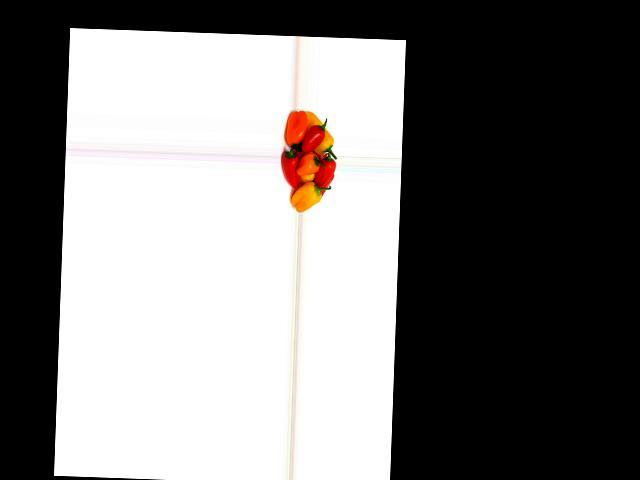bell_pepper: (305, 112, 337, 155)
